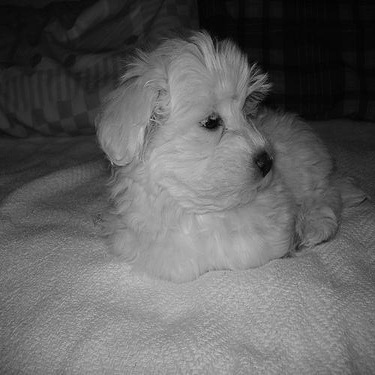dog: (61, 18, 353, 287)
